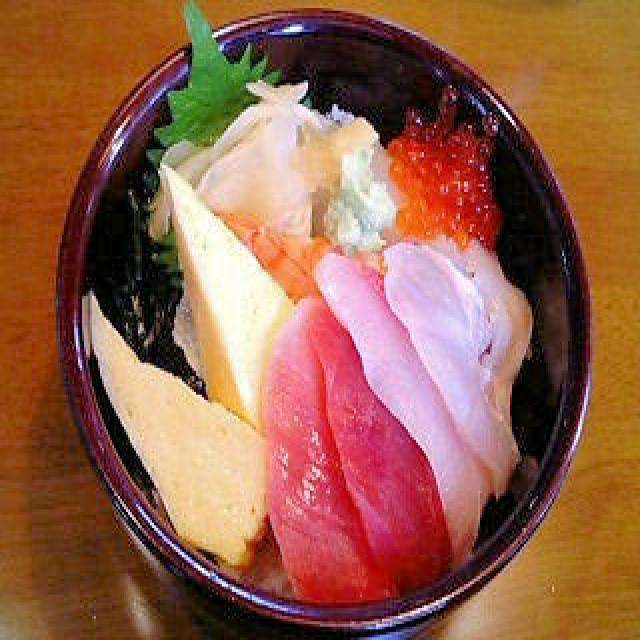刺身生食: (108, 0, 640, 640)
